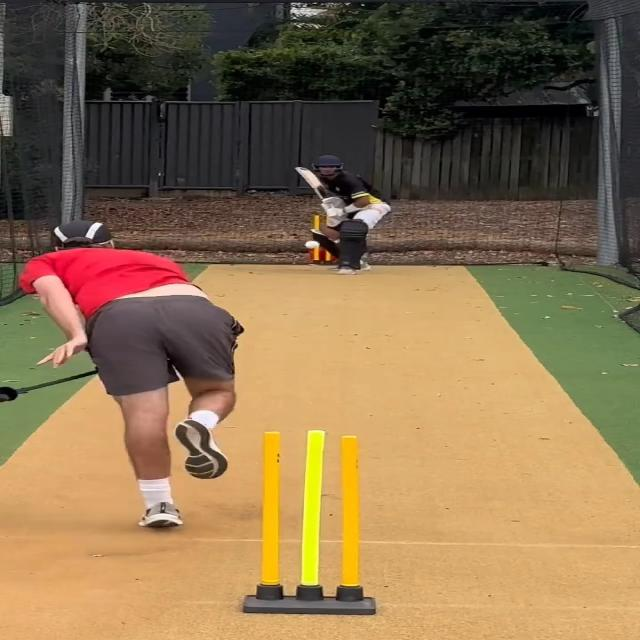ball: (304, 240, 322, 250)
stump: (240, 430, 378, 615)
